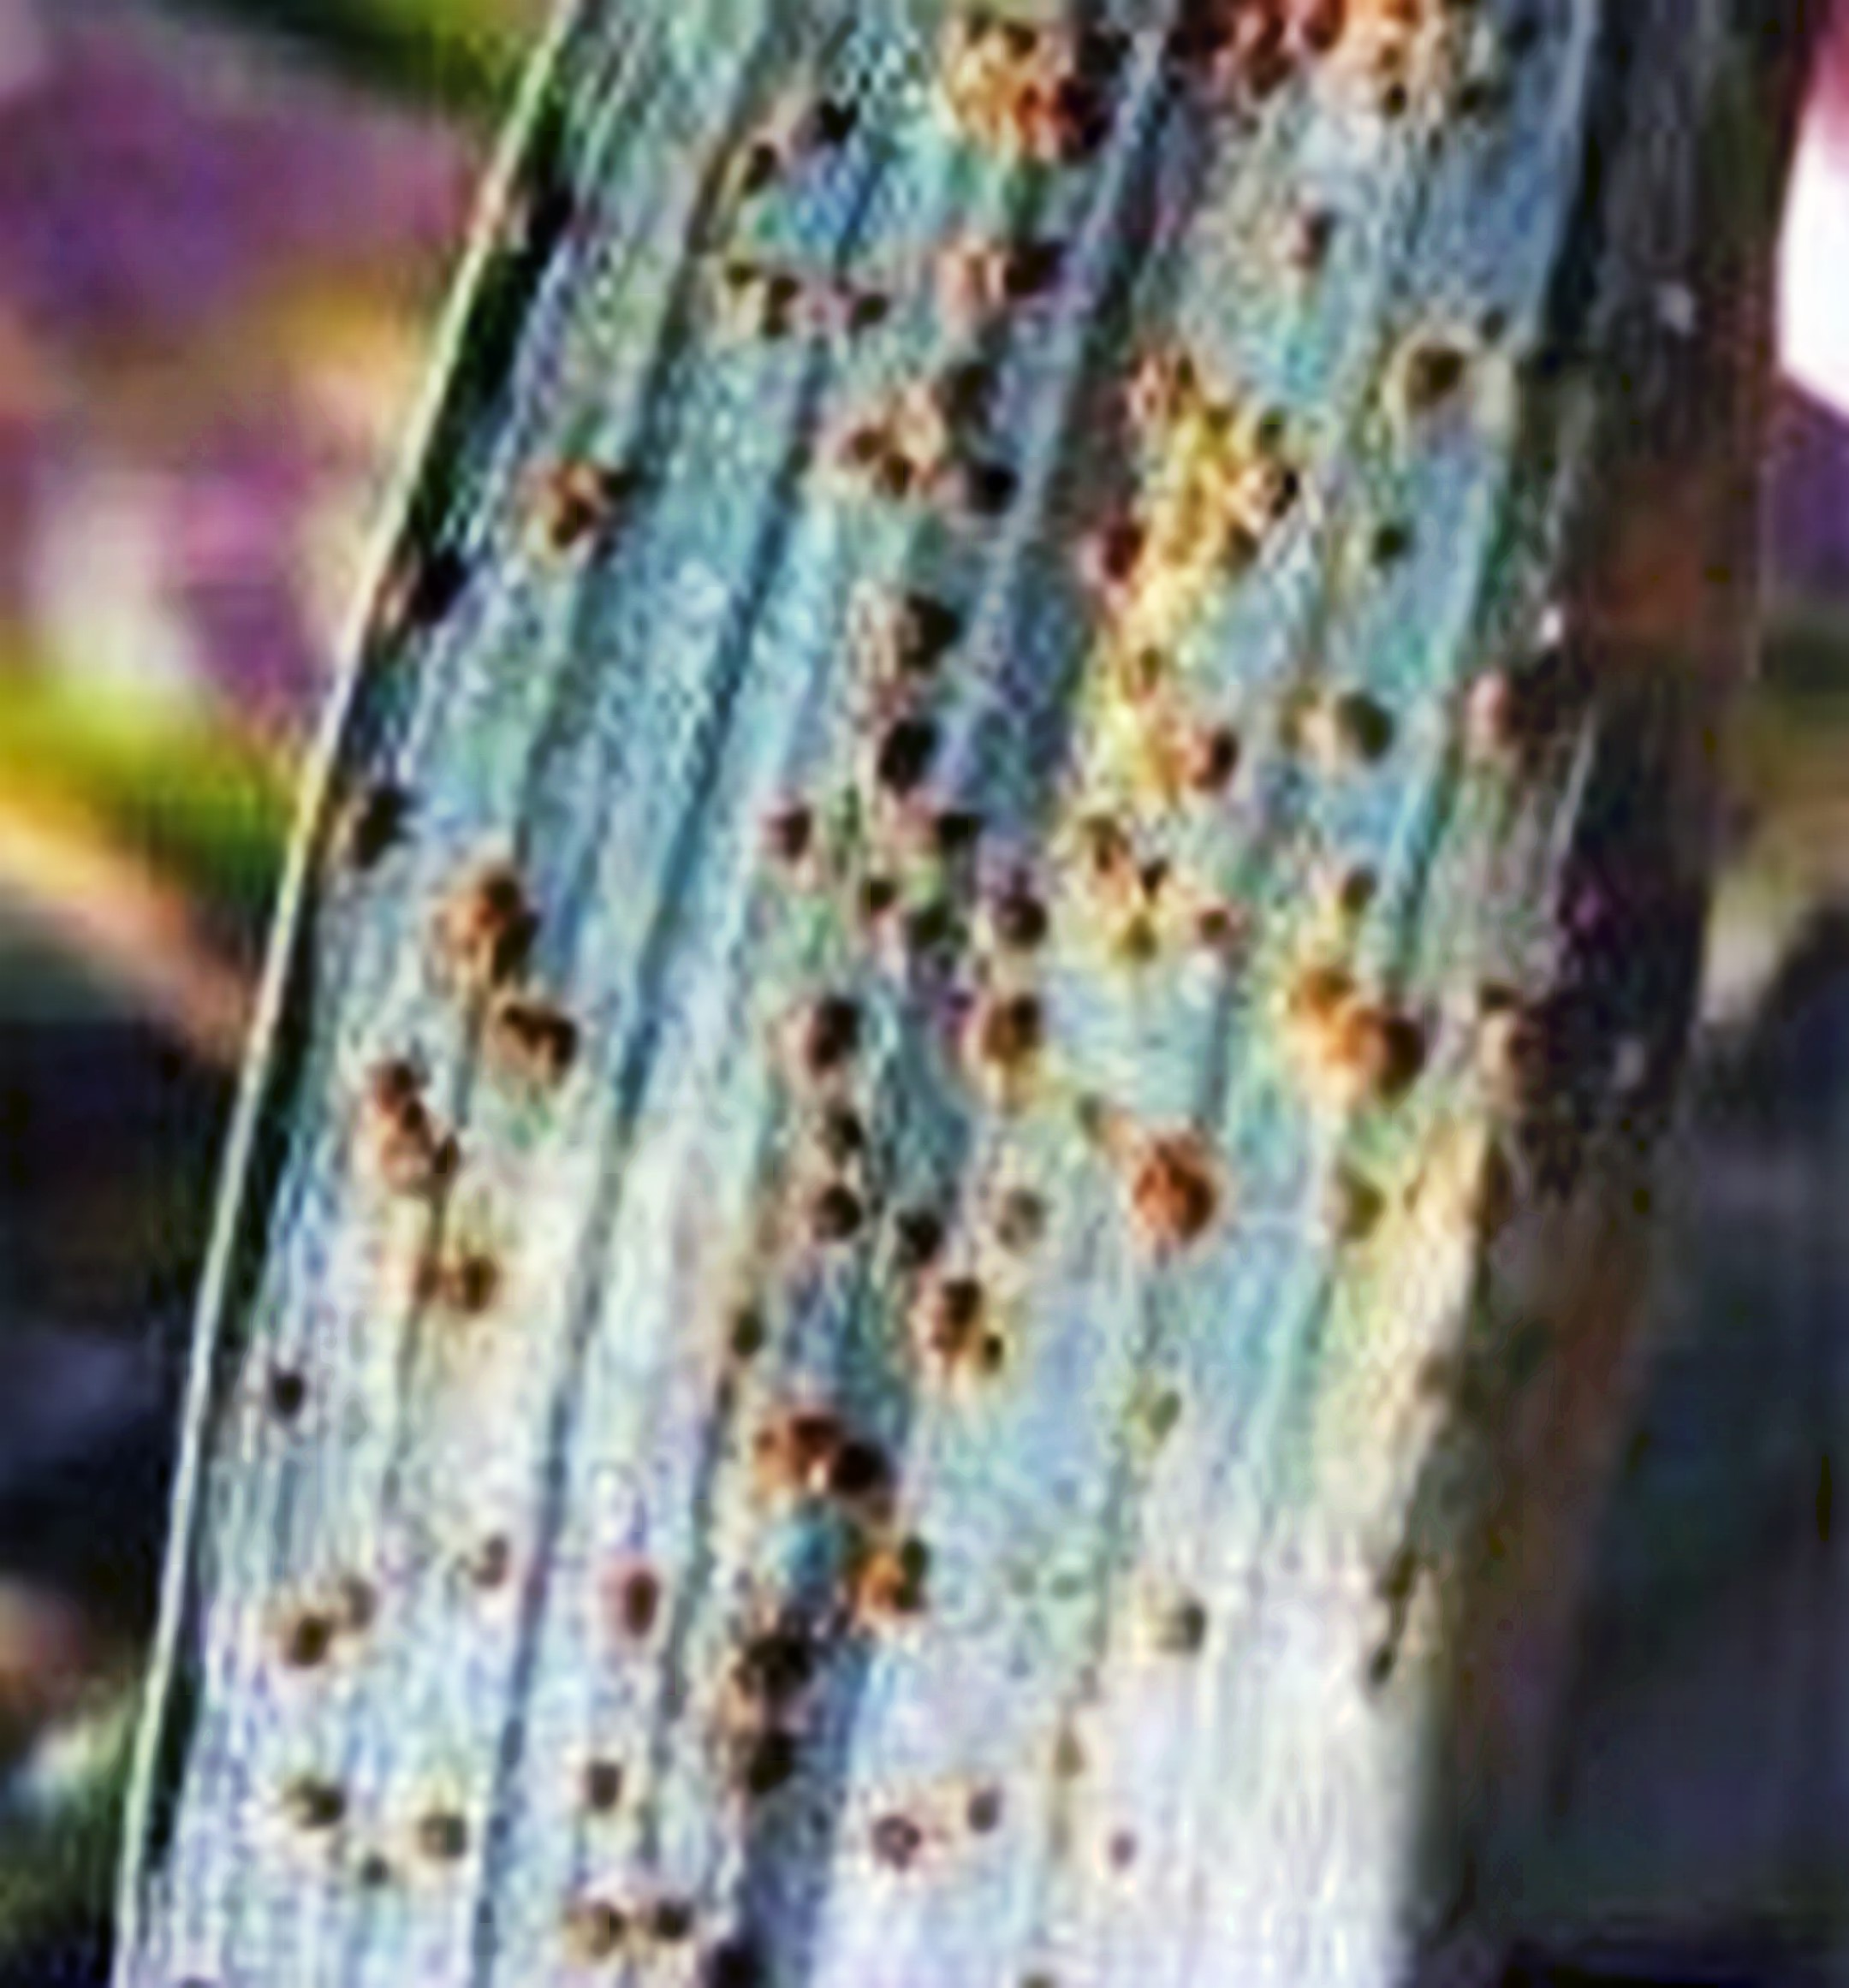Leaf Rust: (249, 151, 1717, 1694)
